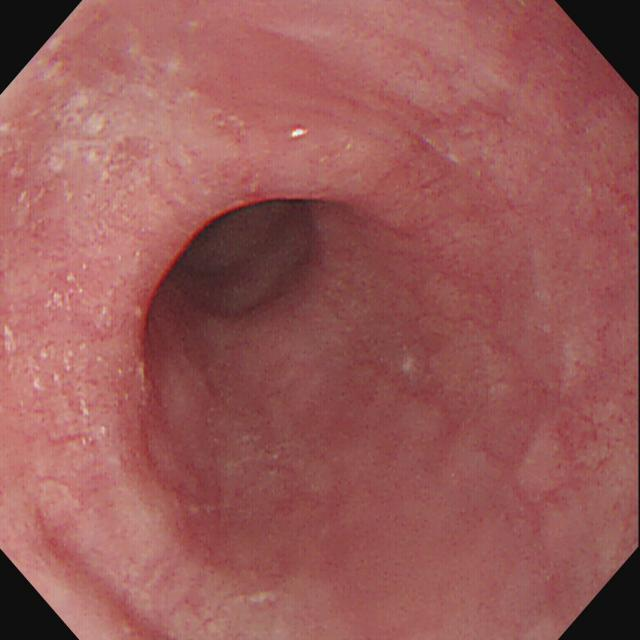A: (57, 540, 163, 638), (143, 333, 171, 421)
E: (169, 187, 329, 328)
J: (2, 37, 262, 232), (2, 233, 150, 447), (401, 346, 422, 381)
U: (291, 128, 309, 141)
